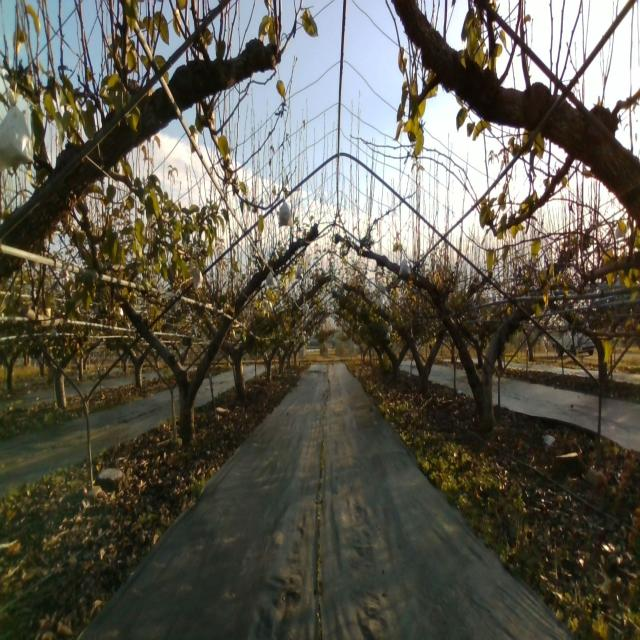pearbags: (0, 88, 35, 168), (278, 197, 294, 229), (191, 265, 203, 292), (399, 255, 411, 278)
